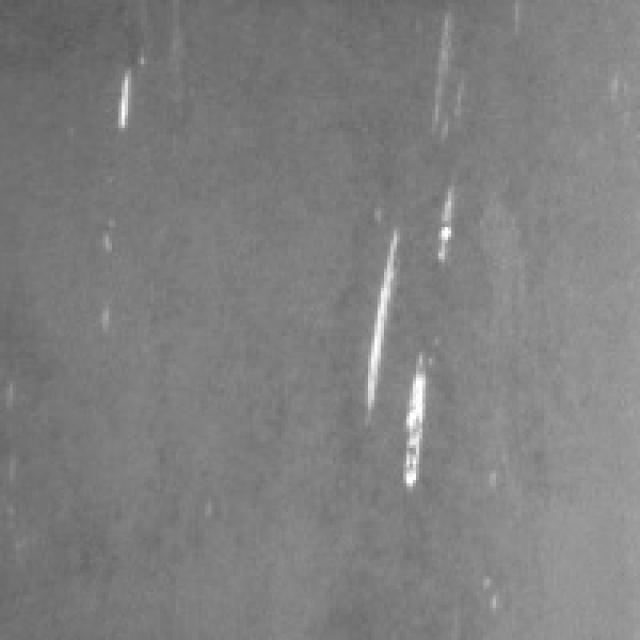scratches: (352, 183, 451, 487), (99, 45, 147, 134)
